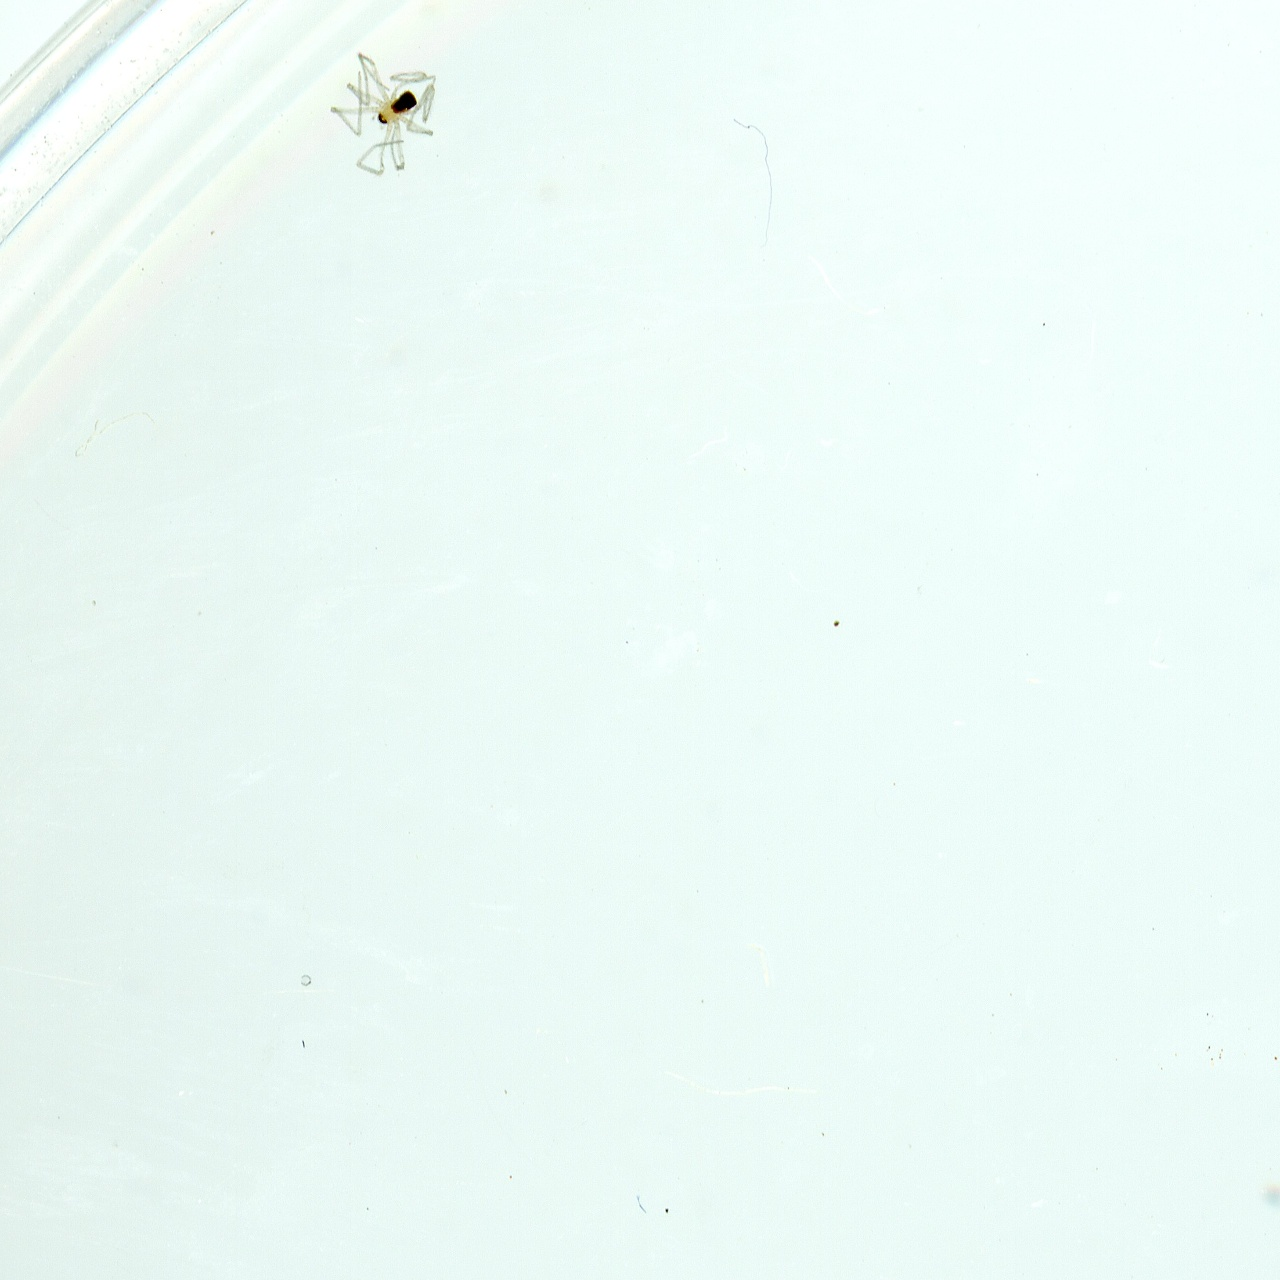arthropod: (316, 43, 446, 178)
